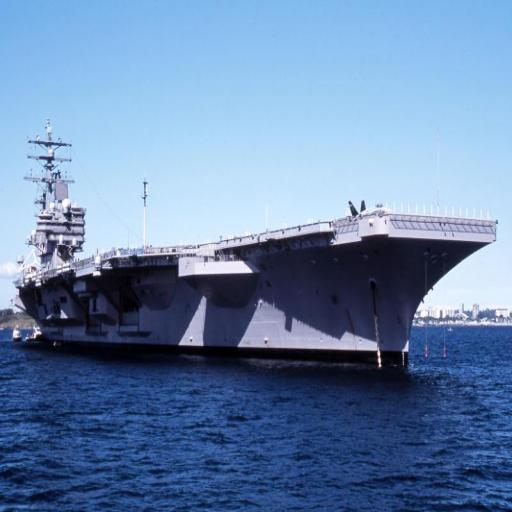Portanaves: (11, 115, 500, 377)
